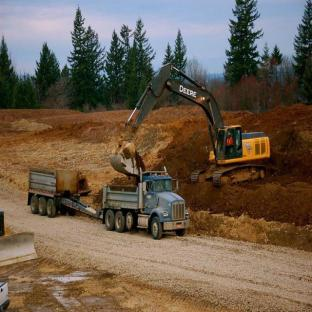ExcavationMachinery: (94, 61, 296, 183)
Vehicle: (100, 171, 189, 237)
